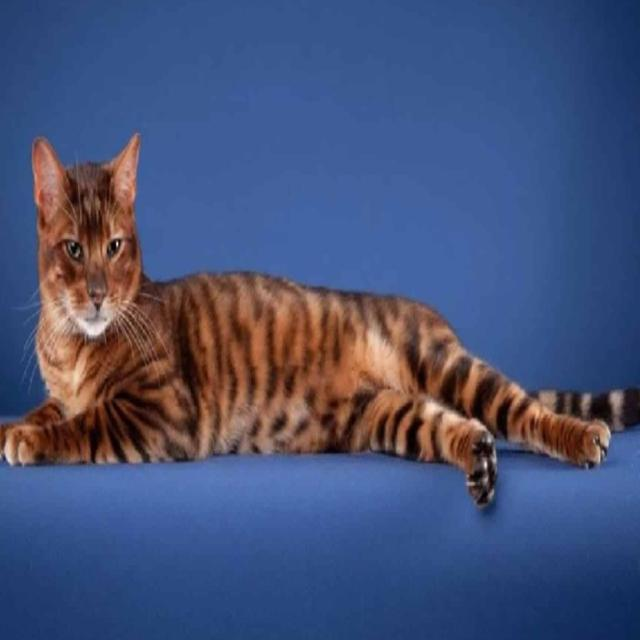Toyger: (0, 126, 640, 513)
